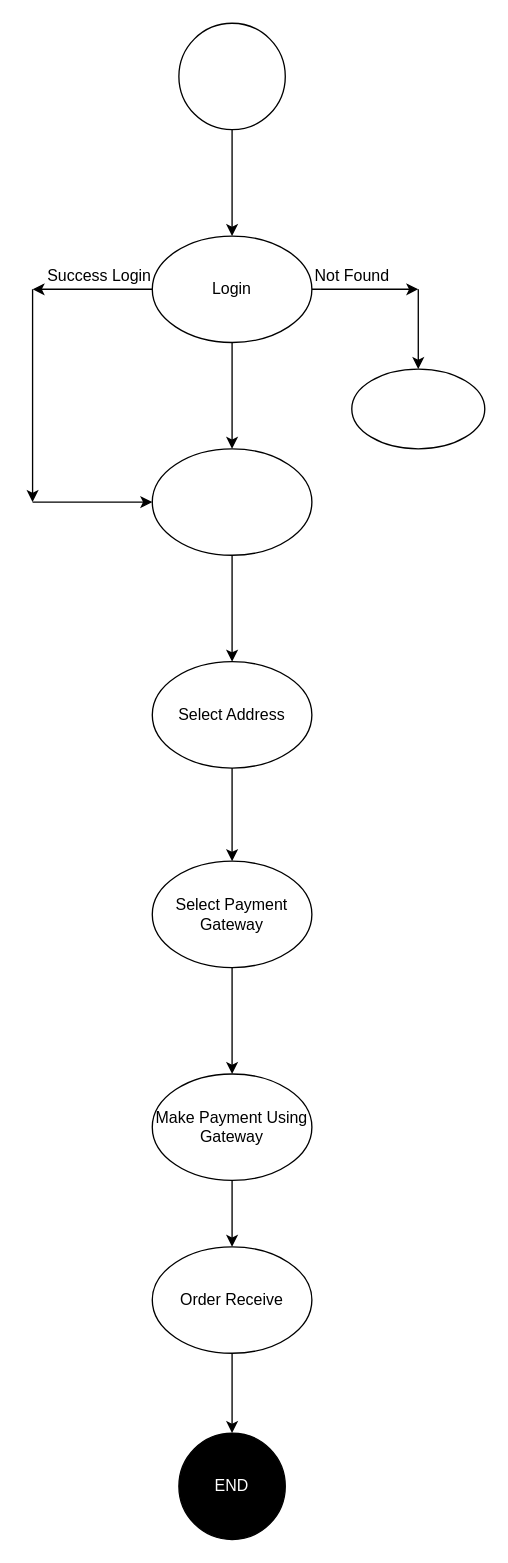
The diagram is 508 pixels wide and 1563 high, and some of its shapes have lost their labels. The shapes that lost their labels are listed below. From the top down, each one's centre as x and y in pixels, then its label:
At (231,76): "START".
At (417,408): "Sign UP".
At (231,501): "Add to cart".
